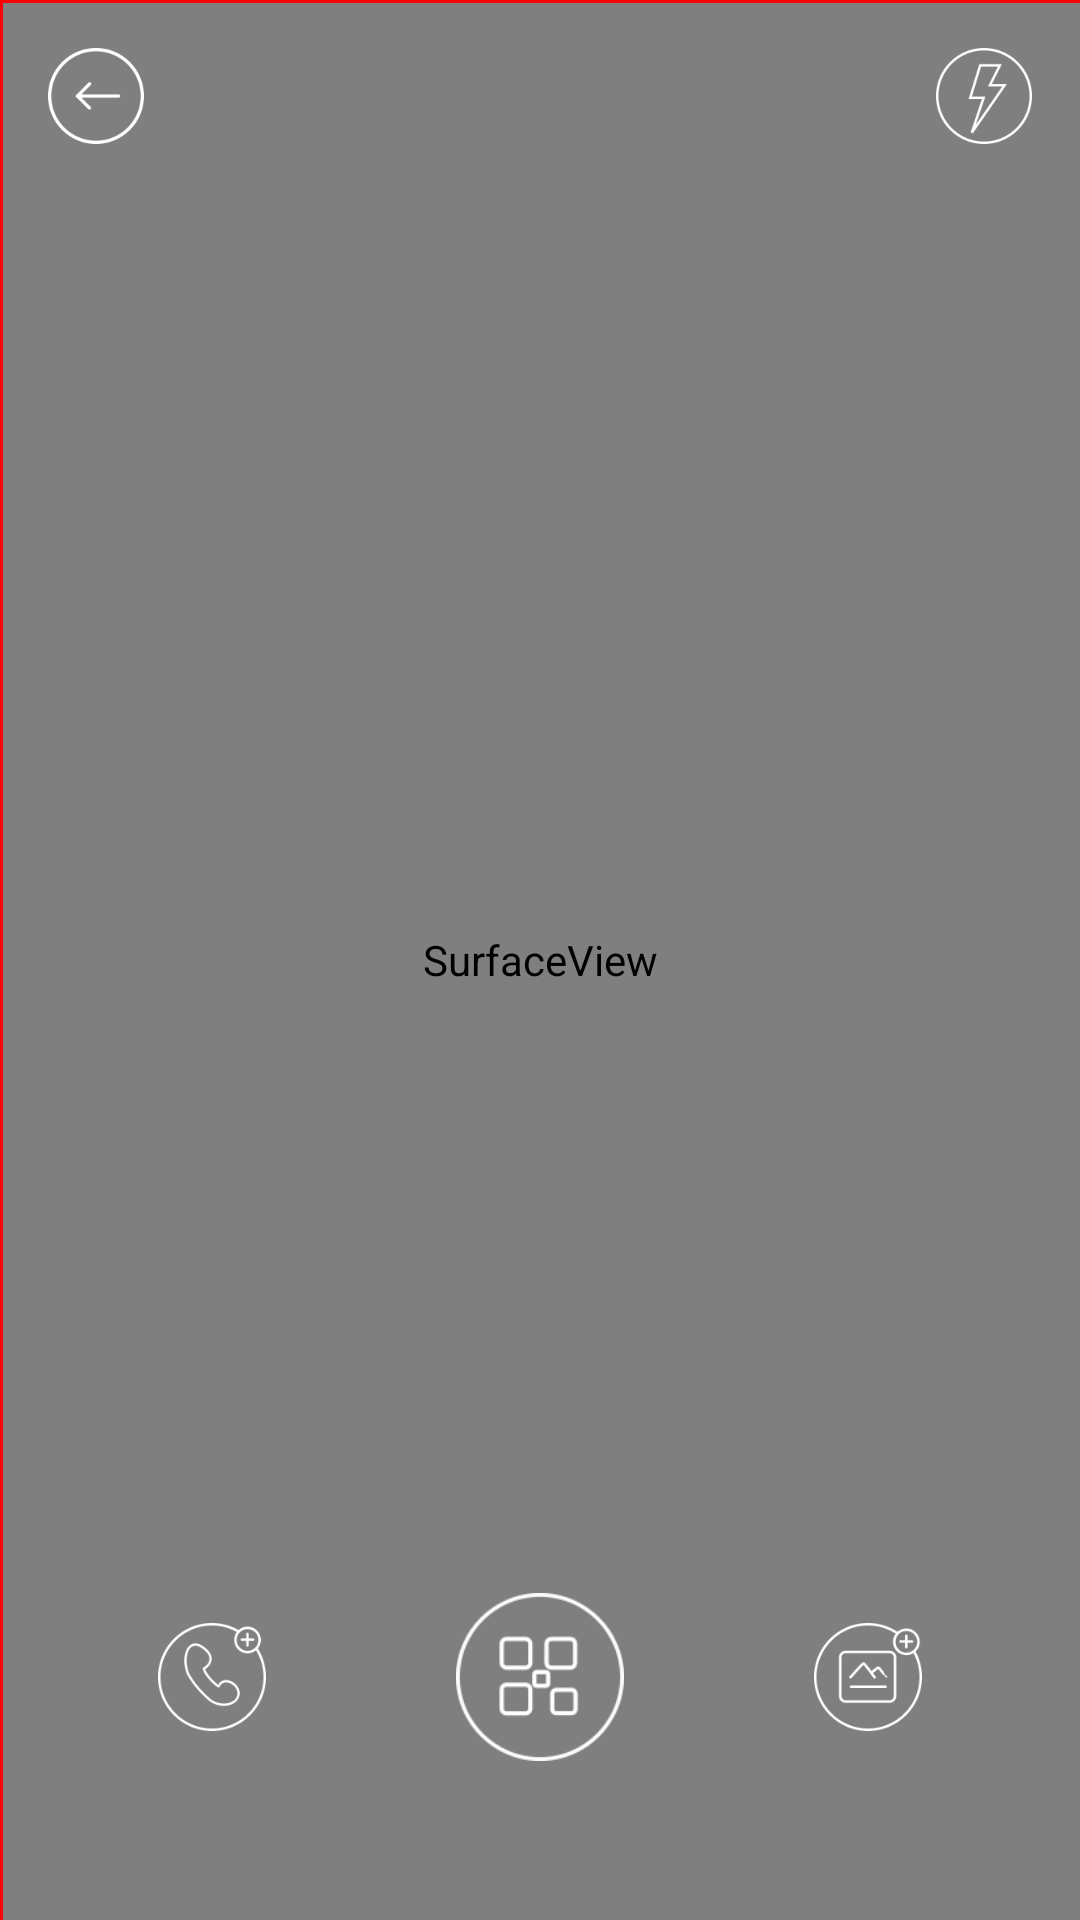

Icons on this 1080×1920 Android screen, each with the point to tap as (x=x, y=y):
add from: (x=868, y=1677)
add my qr: (x=540, y=1677)
add phone number: (x=212, y=1677)
